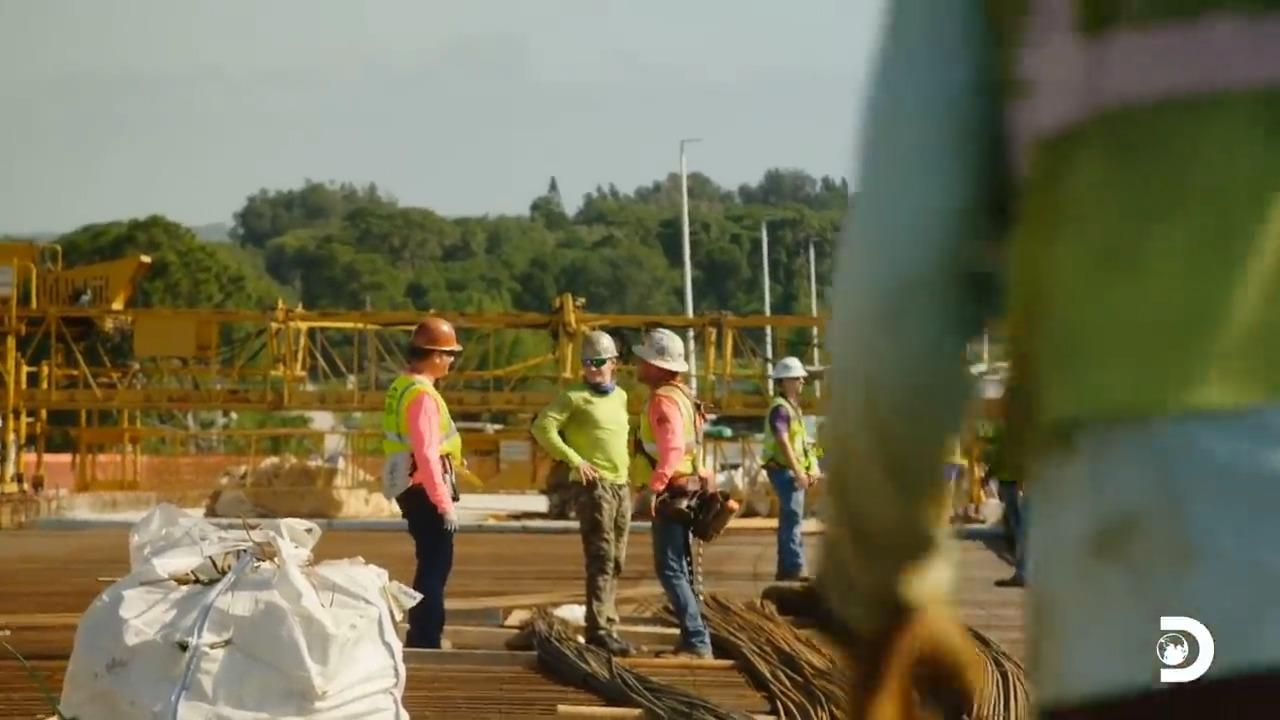Gloves: (438, 507, 463, 535)
Helmet: (631, 327, 689, 372), (409, 316, 463, 352), (580, 330, 619, 361), (768, 356, 809, 379)
Person: (529, 329, 637, 656), (628, 327, 719, 660), (380, 316, 465, 648), (759, 355, 822, 581)
Safety Vest: (383, 385, 461, 490), (653, 398, 700, 487), (761, 401, 805, 472)
bare-arms: (576, 457, 596, 490), (793, 467, 811, 489)
no-vest: (568, 387, 629, 486)
